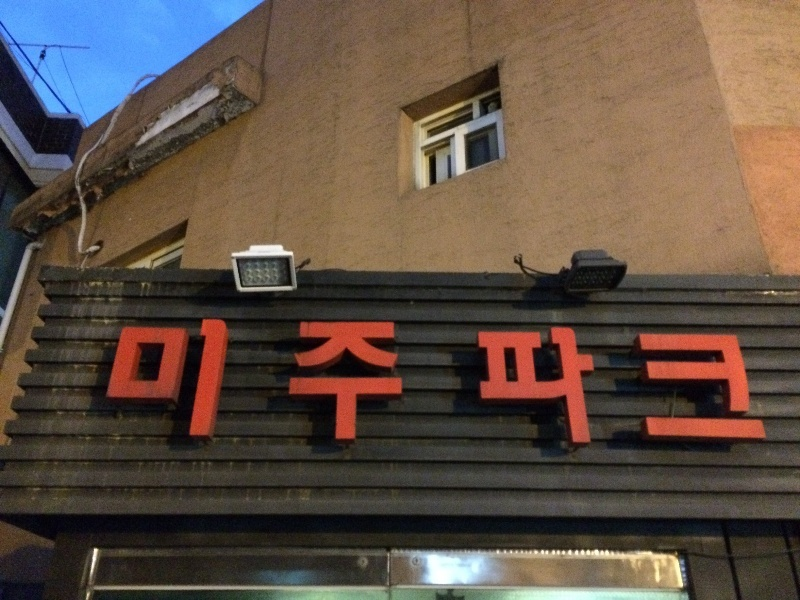text: (753, 320, 769, 449), (129, 320, 144, 449), (145, 320, 160, 449), (161, 320, 176, 449), (177, 320, 192, 449), (193, 320, 208, 449), (209, 320, 224, 449), (225, 320, 240, 449), (241, 320, 256, 449), (257, 320, 272, 449), (273, 320, 288, 449), (289, 320, 304, 449), (305, 320, 320, 449), (321, 320, 336, 449), (337, 320, 352, 449), (353, 320, 368, 449), (369, 320, 384, 449), (385, 320, 400, 449), (401, 320, 416, 449), (417, 320, 432, 449), (433, 320, 448, 449), (449, 320, 464, 449), (465, 320, 480, 449), (481, 320, 496, 449), (497, 320, 512, 449), (513, 320, 528, 449), (529, 320, 544, 449), (545, 320, 560, 449), (561, 320, 576, 449), (577, 320, 592, 449), (593, 320, 608, 449), (609, 320, 624, 449), (625, 320, 640, 449), (641, 320, 656, 449), (657, 320, 672, 449), (673, 320, 688, 449), (689, 320, 704, 449), (705, 320, 720, 449), (721, 320, 736, 449), (737, 320, 752, 449), (123, 320, 128, 449)
